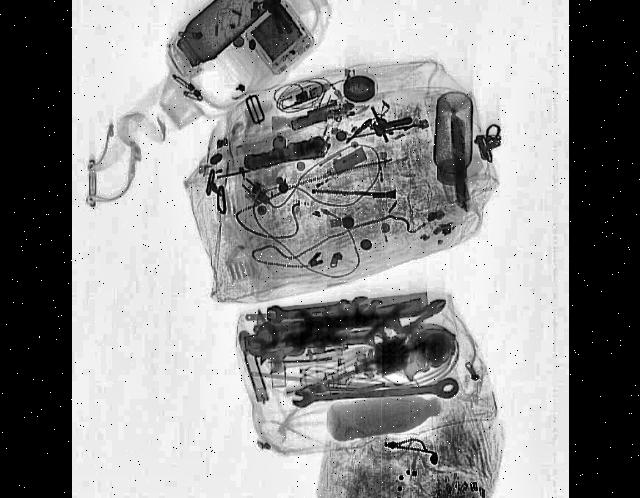Pliers: (368, 283, 450, 362)
Wrench: (292, 378, 460, 412), (254, 311, 348, 353), (260, 323, 306, 383), (266, 301, 354, 326)
